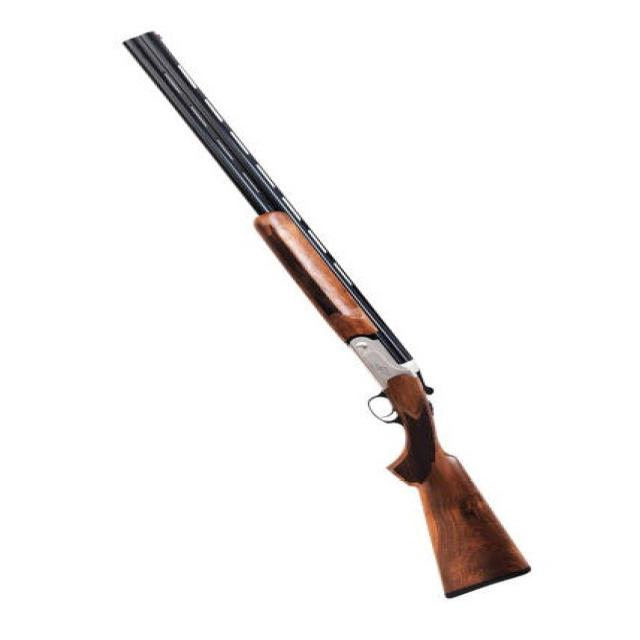rifle: (121, 26, 539, 615)
